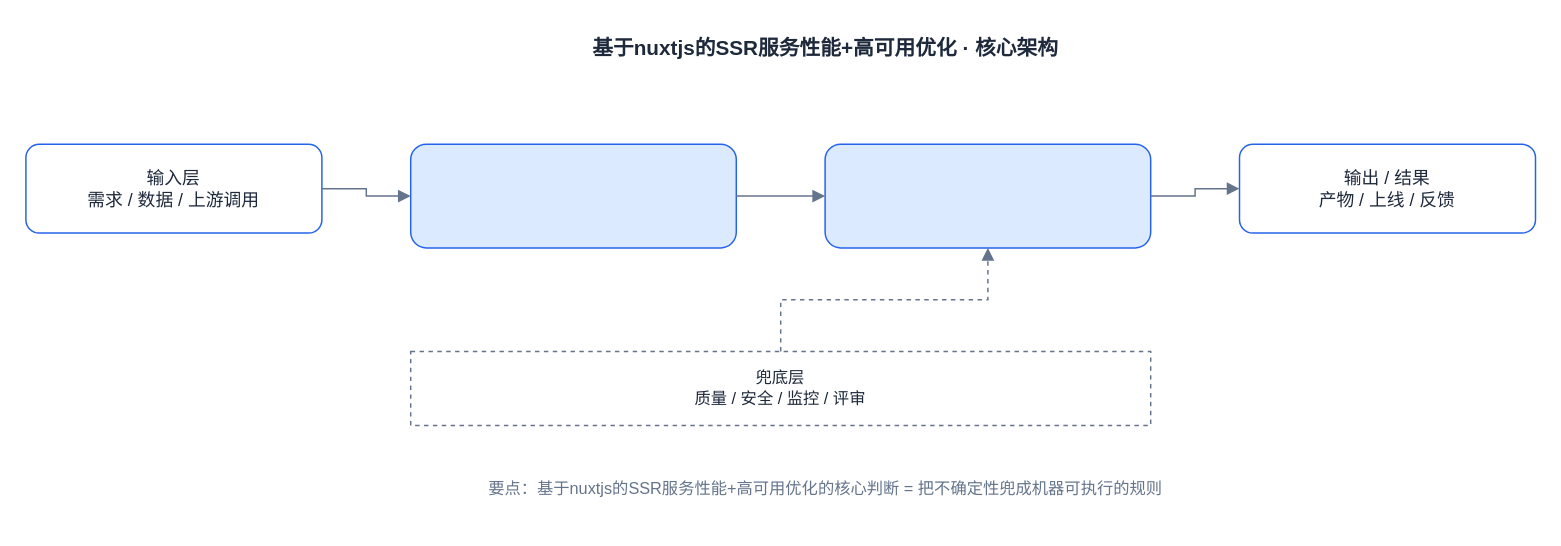
Some shapes in this 1561 by 546 pixel diagram are drawn without their labels. Each missing label, with the centre of its shape:
核心模块一 基于nuxtjs的SSR服务性能+高可用优化的左侧关键链路: pixel 572 195
核心模块二 基于nuxtjs的SSR服务性能+高可用优化的右侧关键链路: pixel 987 195
